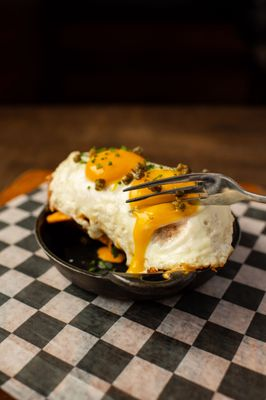sushi: (46, 145, 240, 275)
